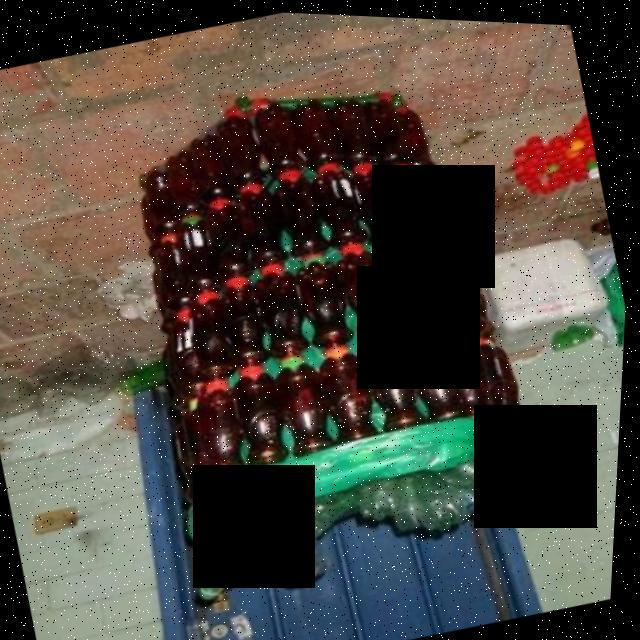bin: (57, 16, 603, 640)
